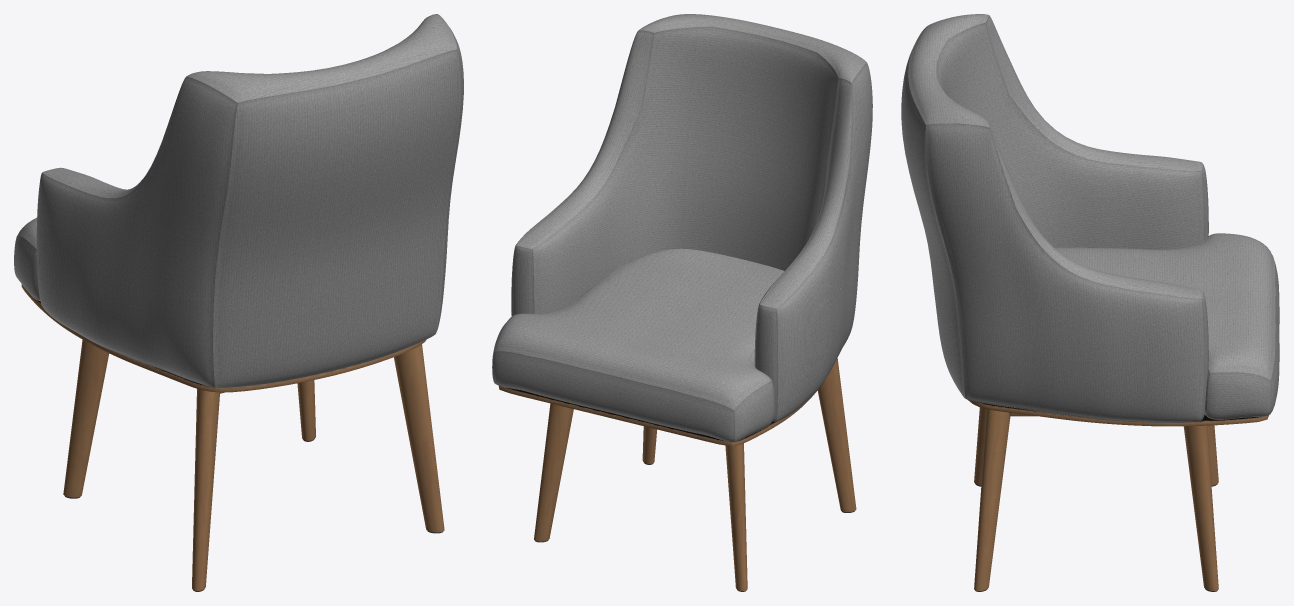
File: leather-chair.glb
3 renders of one model, left to right at view 1: azimuth 30°, elevation 25°; view 2: azimuth 150°, elevation 25°; view 3: azimuth 270°, elevation 25°, orthographic. The views are drawn at different scales.
Visible parts, largest first — view 1: Chair; view 2: Chair; view 3: Chair.
Part boxes in pixels (x1=…): Chair: x1=14, y1=14, x2=463, y2=591; Chair: x1=492, y1=14, x2=872, y2=591; Chair: x1=901, y1=14, x2=1279, y2=591.
Size of the model in its own units: 0.748 by 1.11 by 0.8075.
2 materials, 1 textured.
